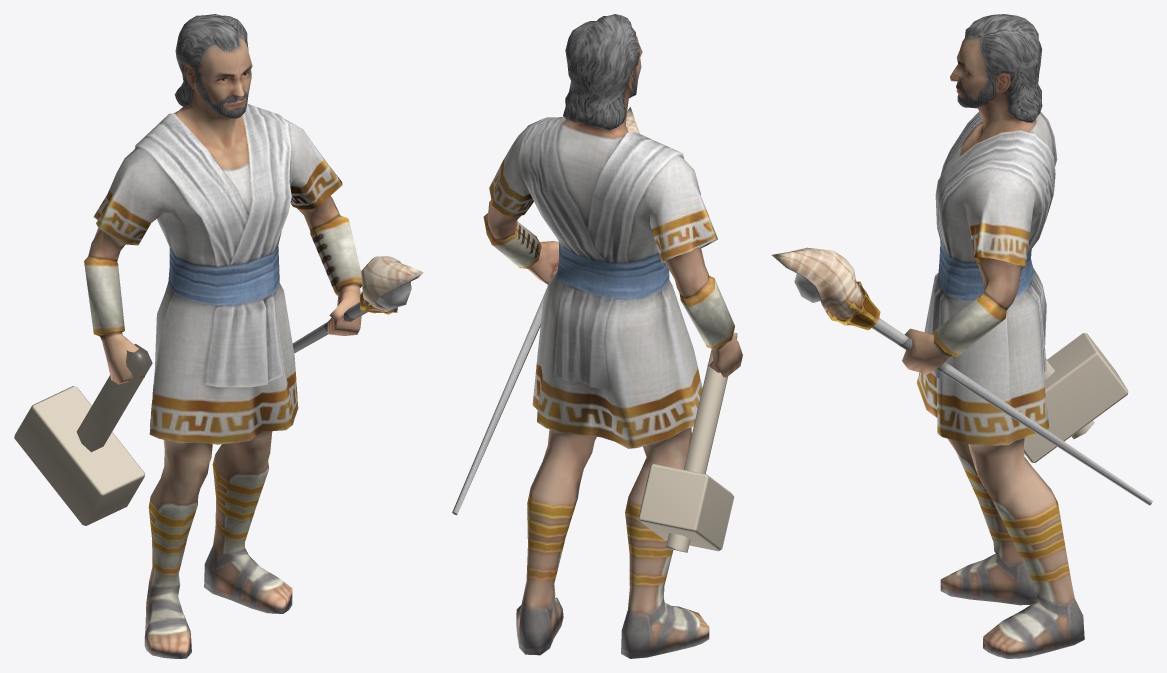
File: 64-oraclehero.glb
The picture shows the model from 3 angles, left to right: view 1: azimuth 30°, elevation 25°; view 2: azimuth 150°, elevation 25°; view 3: azimuth 270°, elevation 25°; orthographic projection.
Bounding box in the file's own units: 0.9764 × 2.07 × 1.19.
Materials: 3 (2 with a texture image).
